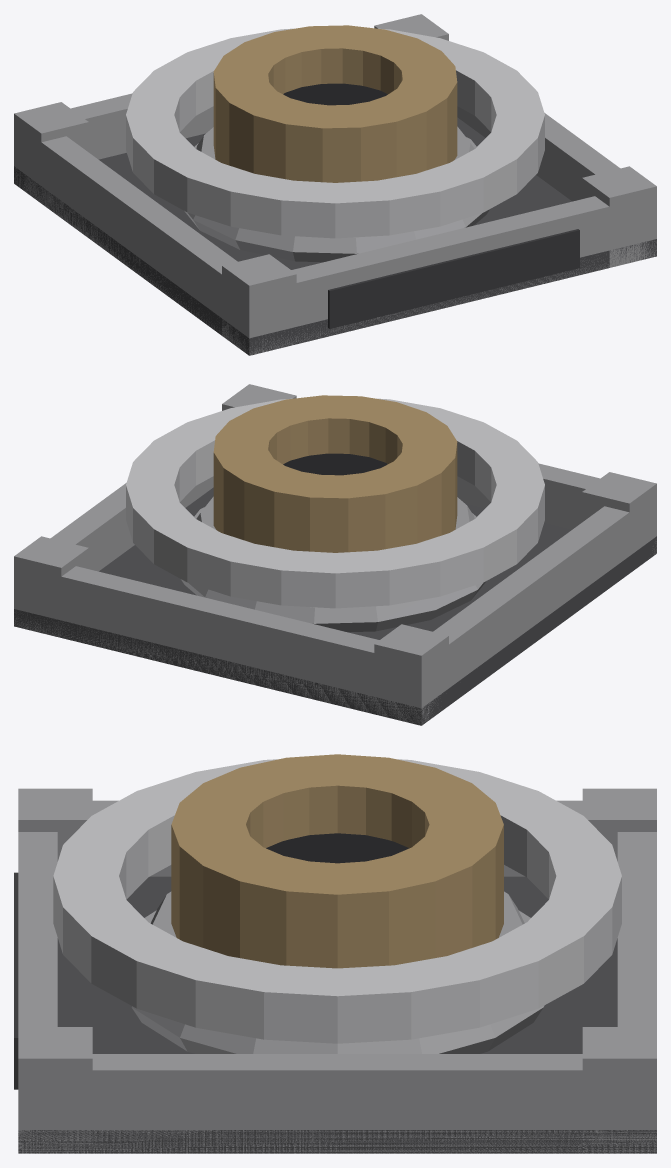
File: vge_gravheat_absorber.obj
The picture shows the model from 3 angles, top to bottom: view 1: azimuth 30°, elevation 25°; view 2: azimuth 150°, elevation 25°; view 3: azimuth 270°, elevation 25°; orthographic projection. The views are drawn at different scales.
Visible parts, largest first — view 1: vge_gravheat_absorber_12, vge_gravheat_absorber_13, vge_gravheat_absorber_3, vge_gravheat_absorber_1, vge_gravheat_absorber_0, vge_gravheat_absorber_15, vge_gravheat_absorber_9, vge_gravheat_absorber_7, vge_gravheat_absorber_2, vge_gravheat_absorber_4, vge_gravheat_absorber_5, vge_gravheat_absorber_6 (+3 smaller); view 2: vge_gravheat_absorber_12, vge_gravheat_absorber_13, vge_gravheat_absorber_2, vge_gravheat_absorber_0, vge_gravheat_absorber_3, vge_gravheat_absorber_9, vge_gravheat_absorber_4, vge_gravheat_absorber_6, vge_gravheat_absorber_5, vge_gravheat_absorber_8, vge_gravheat_absorber_1, vge_gravheat_absorber_14 (+2 smaller); view 3: vge_gravheat_absorber_12, vge_gravheat_absorber_13, vge_gravheat_absorber_4, vge_gravheat_absorber_0, vge_gravheat_absorber_1, vge_gravheat_absorber_2, vge_gravheat_absorber_9, vge_gravheat_absorber_8, vge_gravheat_absorber_7, vge_gravheat_absorber_5, vge_gravheat_absorber_6, vge_gravheat_absorber_14 (+3 smaller).
Part boxes in pixels (x1,y1,x2,y2): vge_gravheat_absorber_12: [126, 28, 544, 238]; vge_gravheat_absorber_13: [213, 25, 457, 182]; vge_gravheat_absorber_3: [28, 133, 237, 344]; vge_gravheat_absorber_1: [235, 196, 656, 355]; vge_gravheat_absorber_0: [14, 117, 656, 355]; vge_gravheat_absorber_15: [328, 229, 579, 328]; vge_gravheat_absorber_9: [184, 137, 489, 262]; vge_gravheat_absorber_7: [582, 166, 656, 267]; vge_gravheat_absorber_2: [14, 93, 213, 193]; vge_gravheat_absorber_4: [457, 106, 620, 201]; vge_gravheat_absorber_5: [222, 254, 296, 354]; vge_gravheat_absorber_6: [14, 102, 88, 201]; vge_gravheat_absorber_12: [126, 398, 544, 608]; vge_gravheat_absorber_13: [213, 395, 457, 552]; vge_gravheat_absorber_2: [14, 565, 435, 725]; vge_gravheat_absorber_0: [14, 487, 656, 725]; vge_gravheat_absorber_3: [433, 506, 630, 697]; vge_gravheat_absorber_9: [181, 507, 486, 632]; vge_gravheat_absorber_4: [50, 476, 213, 571]; vge_gravheat_absorber_6: [374, 624, 448, 725]; vge_gravheat_absorber_5: [582, 472, 656, 555]; vge_gravheat_absorber_8: [14, 536, 88, 637]; vge_gravheat_absorber_1: [457, 463, 656, 554]; vge_gravheat_absorber_14: [283, 453, 387, 475]; vge_gravheat_absorber_12: [53, 759, 621, 1043]; vge_gravheat_absorber_13: [171, 754, 503, 968]; vge_gravheat_absorber_4: [57, 1054, 617, 1153]; vge_gravheat_absorber_0: [18, 876, 656, 1153]; vge_gravheat_absorber_1: [18, 832, 57, 1153]; vge_gravheat_absorber_2: [617, 832, 656, 1153]; vge_gravheat_absorber_9: [131, 910, 544, 1053]; vge_gravheat_absorber_8: [582, 1027, 656, 1153]; vge_gravheat_absorber_7: [18, 1027, 92, 1153]; vge_gravheat_absorber_5: [18, 788, 92, 861]; vge_gravheat_absorber_6: [582, 788, 656, 861]; vge_gravheat_absorber_14: [266, 833, 409, 863].
Bounding box in the file's own units: 2.92 × 0.98 × 2.94.
